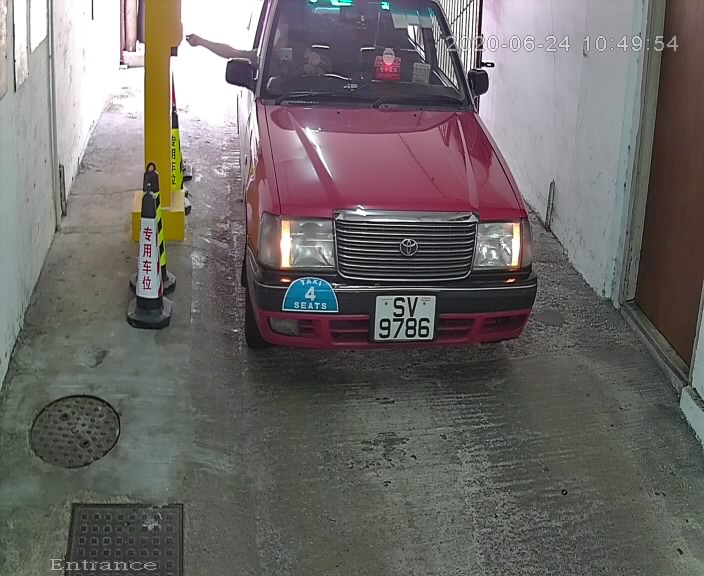Car: (203, 1, 552, 396)
License Plate: (373, 290, 439, 346)
